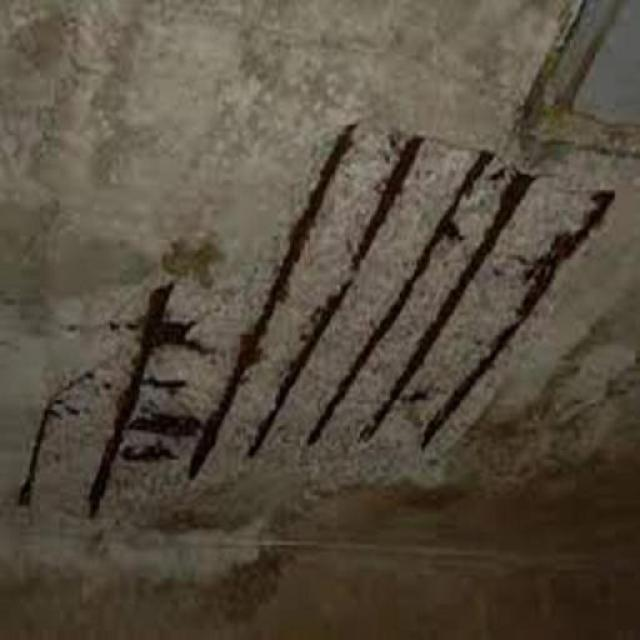D0w0: (0, 122, 615, 531)
